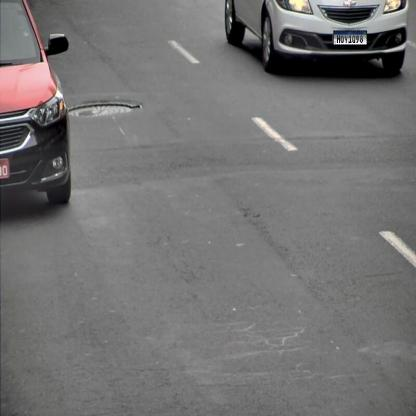PlacaM: (333, 31, 367, 45)
